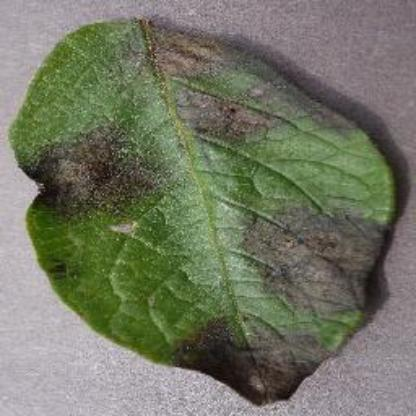Late-Blight: (9, 15, 401, 407)
